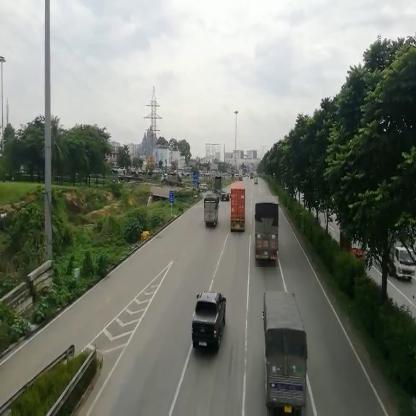car: (193, 294, 228, 349)
container: (232, 185, 246, 234), (162, 175, 183, 190), (216, 180, 228, 198)
truck: (264, 293, 308, 409), (256, 197, 279, 269), (390, 236, 416, 278), (205, 194, 219, 228)
